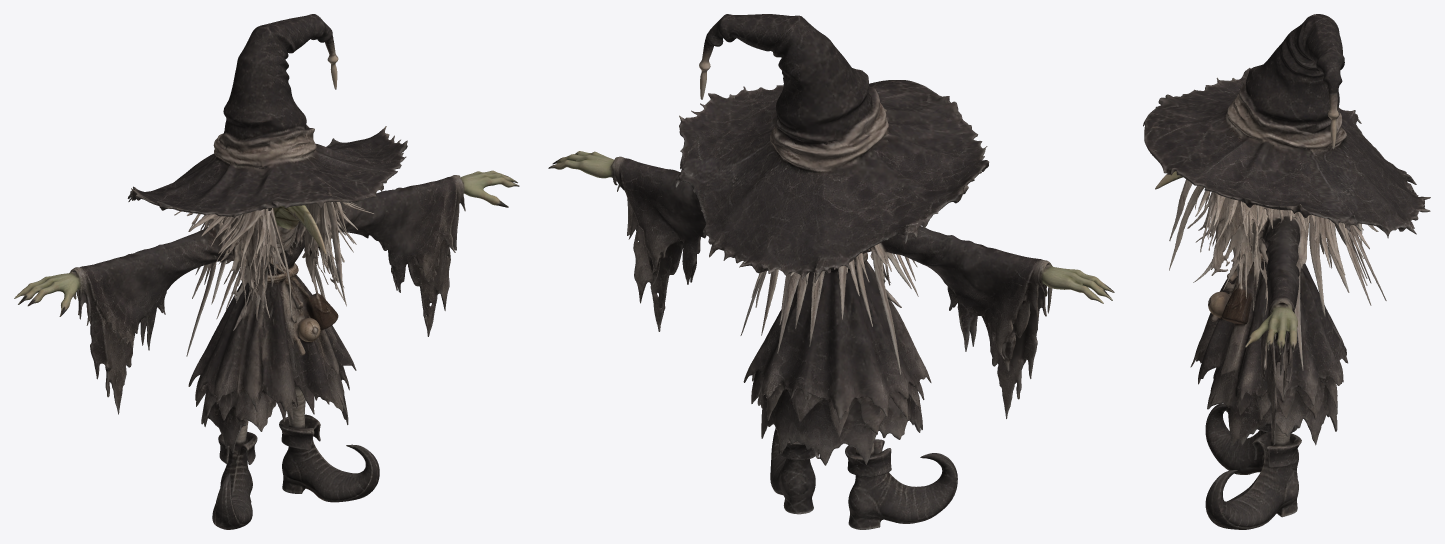
File: Meshy_AI_Tattered_Witch_Scarec_1011102056_texture.fbx
The picture shows the model from 3 angles, left to right: view 1: azimuth 30°, elevation 25°; view 2: azimuth 150°, elevation 25°; view 3: azimuth 270°, elevation 25°; orthographic projection. The views are drawn at different scales.
Visible parts, largest first — view 1: Mesh_0; view 2: Mesh_0; view 3: Mesh_0.
Part boxes in pixels (x1,y1,x2,y2): Mesh_0: [14, 14, 519, 529]; Mesh_0: [548, 14, 1114, 529]; Mesh_0: [1143, 14, 1430, 529].
Size of the model in its own units: 190 by 164 by 87.84.
1 material, 1 textured.
